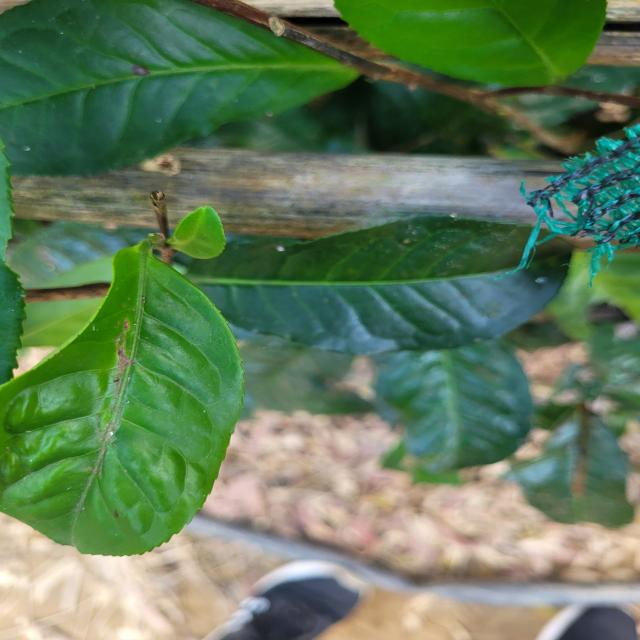Category D 7+ days, Not for Tea: (7, 198, 253, 576)
